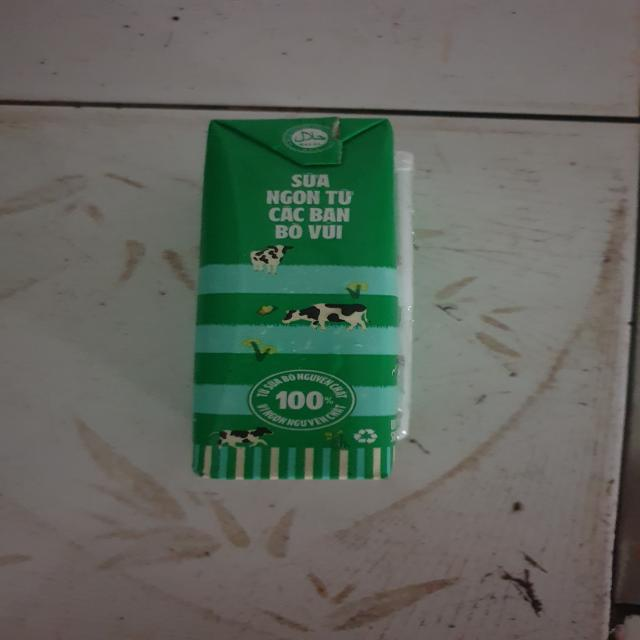Vina: (186, 115, 420, 486)
